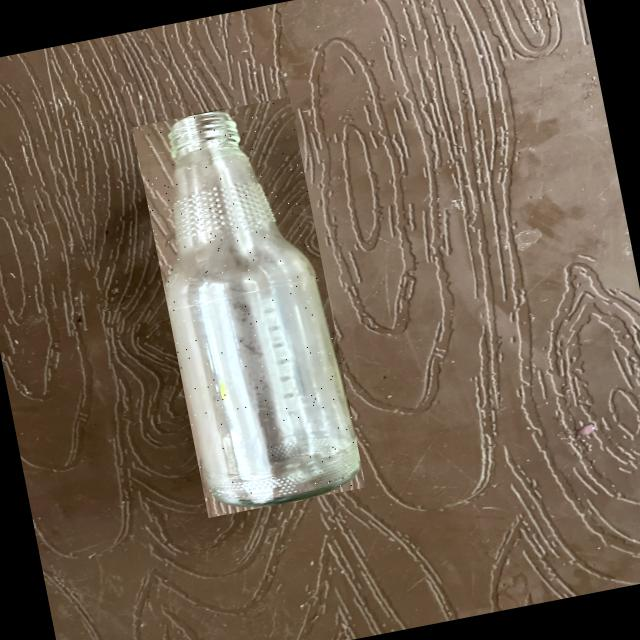Glass_Bottle: (166, 112, 360, 506)
